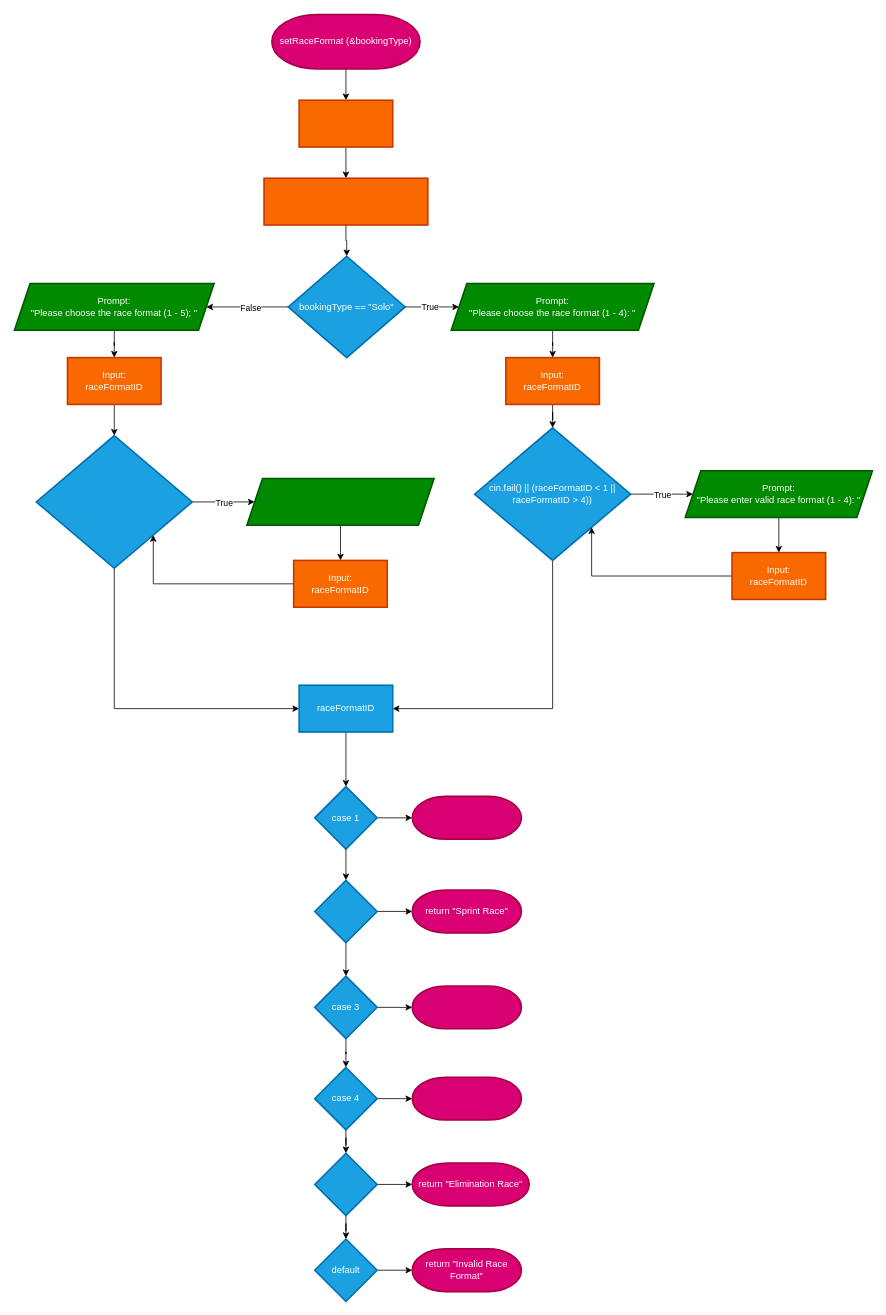
The diagram is 886 pixels wide and 1315 high, and some of its shapes have lost their labels. The centre of each missing label's shape, as x and y in pixels:
case 2: point (346, 911)
case 5: point (346, 1184)
cin.fail() || (raceFormatID < 1 || raceFormatID > 5)): point (114, 501)
Declare: raceFormatID, raceFormat: point (345, 123)
displayRaceFormat (bookingType): point (345, 201)
Prompt: "Please enter valid race format (1 - 5): ": point (340, 501)
return "Circuit Race": point (466, 817)
return "Drag Race": point (466, 1098)
return "Time Trial": point (466, 1007)
